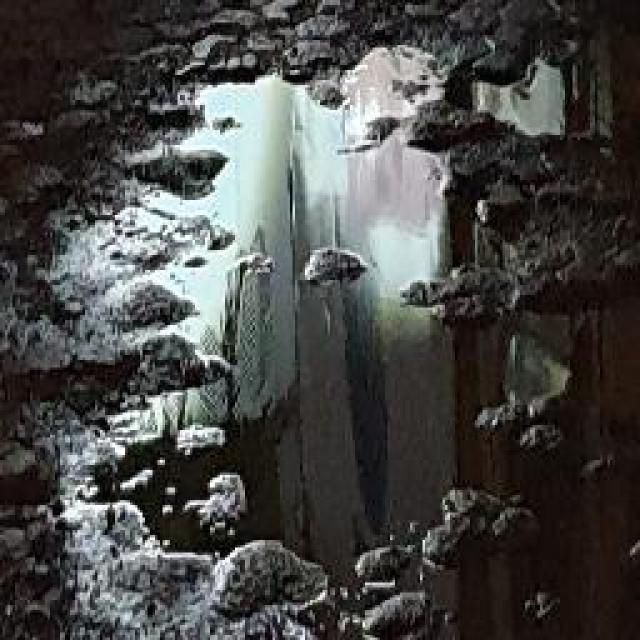puddle: (139, 44, 640, 640)
